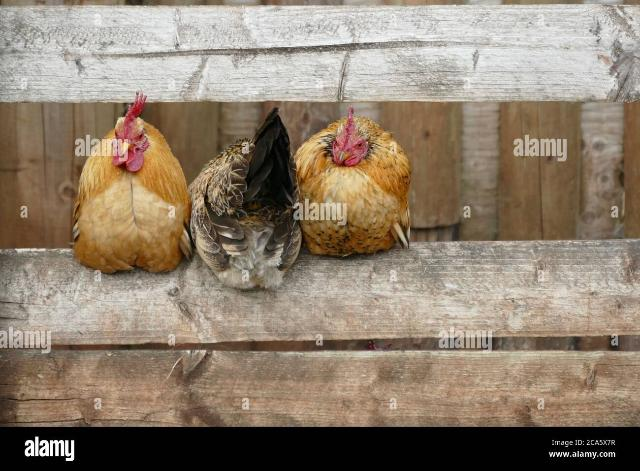Chicken: (70, 92, 191, 275), (189, 110, 303, 293), (293, 107, 409, 256)
